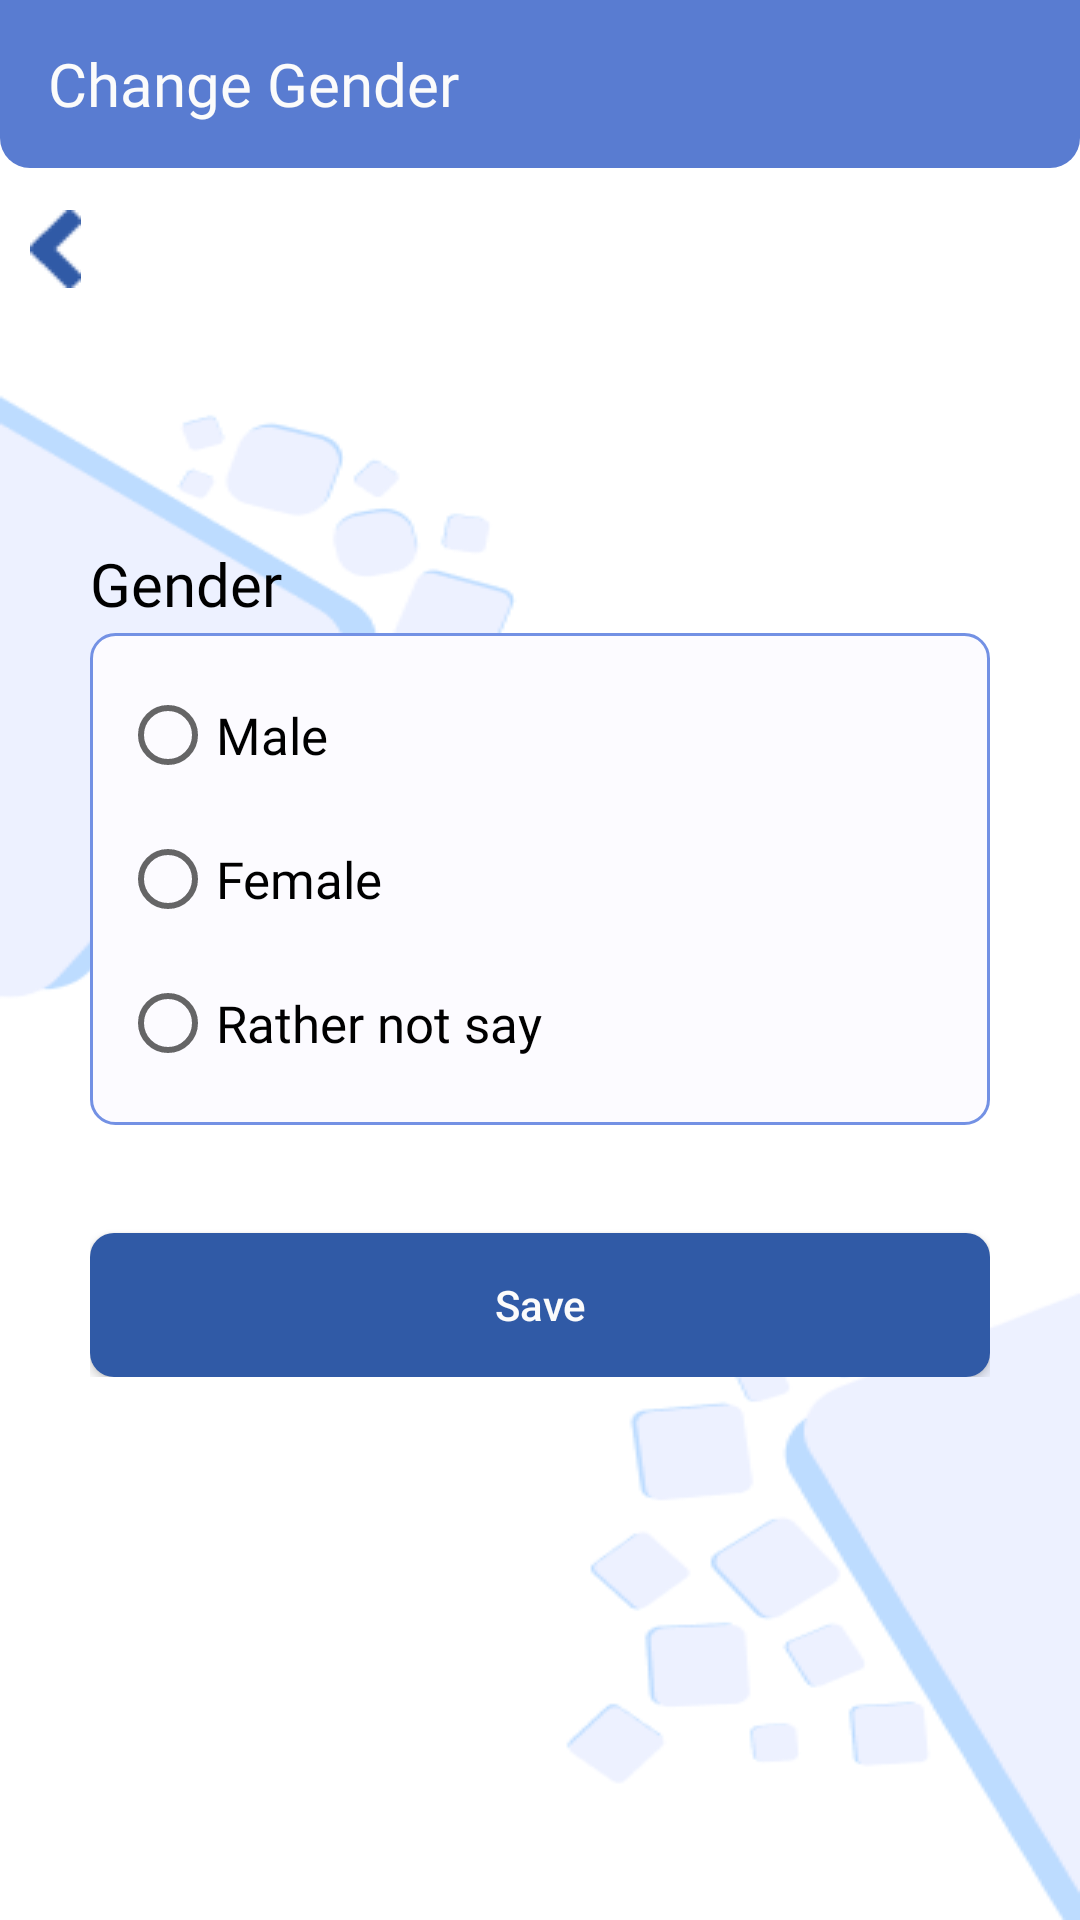

Named icons in this screenshot (1080px×1920px) and their centers, (x=x, y=y):
back symbol: (x=55, y=249)
